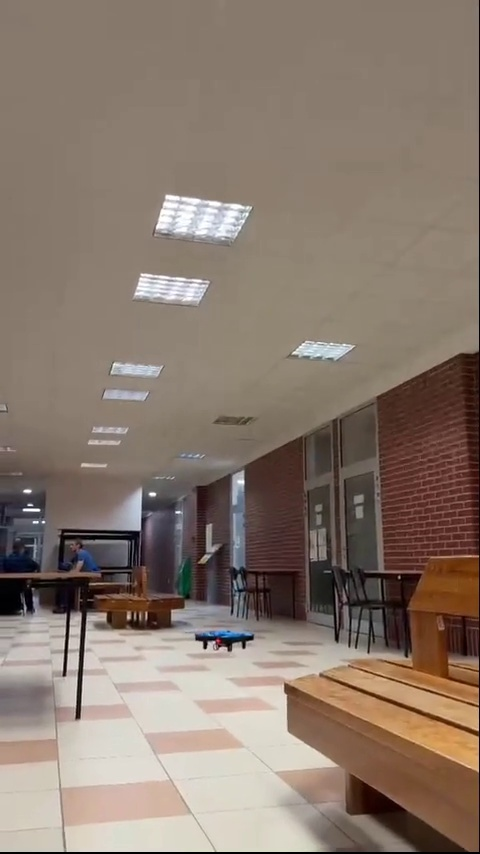drone: (194, 629, 256, 656)
no vest: (5, 539, 38, 598), (62, 536, 98, 586)
